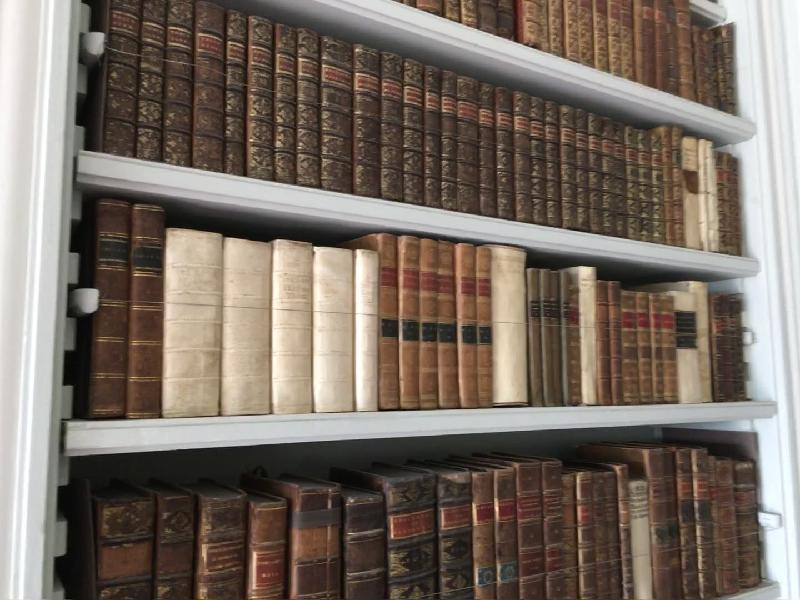Kk4-14: (492, 244, 528, 410)
Kk4-15_16: (527, 267, 551, 408)
Kk4-17_18: (552, 266, 571, 407)
Kk4-19: (572, 284, 582, 407)
Kk4-1_2: (95, 200, 163, 419)
Kk4-20: (580, 263, 597, 405)
Kk4-21_22: (596, 280, 621, 405)
Kk4-23_26: (620, 290, 676, 405)
Kk4-27: (675, 289, 698, 406)
Kk4-28: (692, 280, 712, 404)
Kk4-3_7: (166, 226, 378, 417)
Kk4-8_13: (380, 232, 492, 409)
